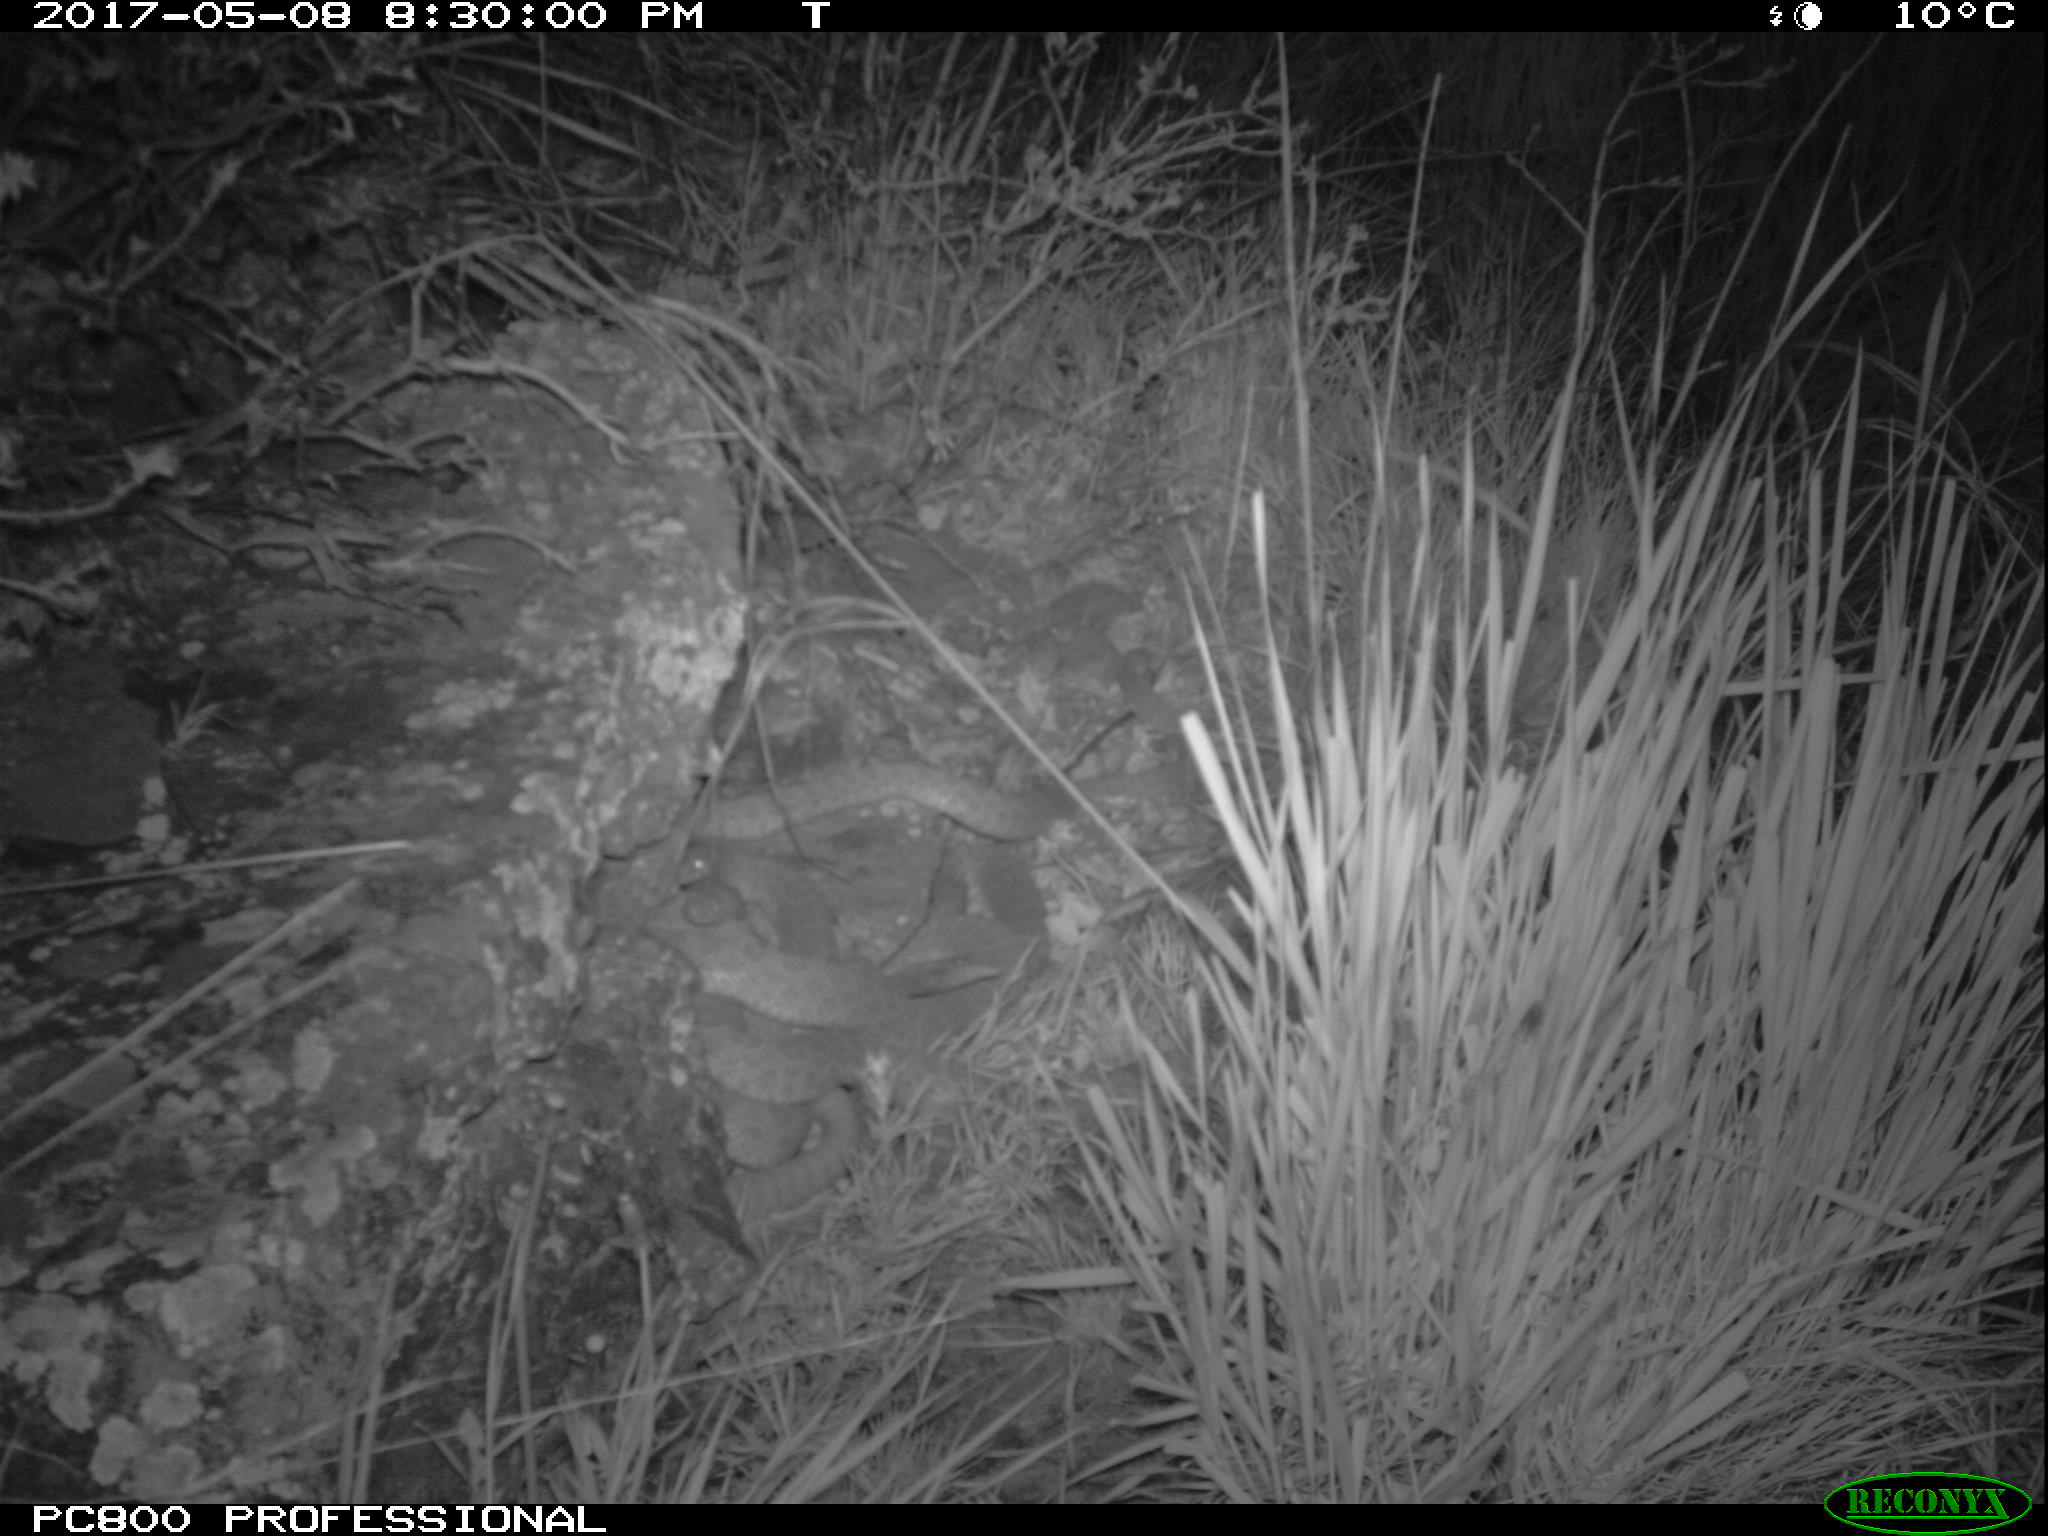snake: (681, 766, 1101, 845), (689, 947, 1030, 1042), (718, 1050, 861, 1204)
